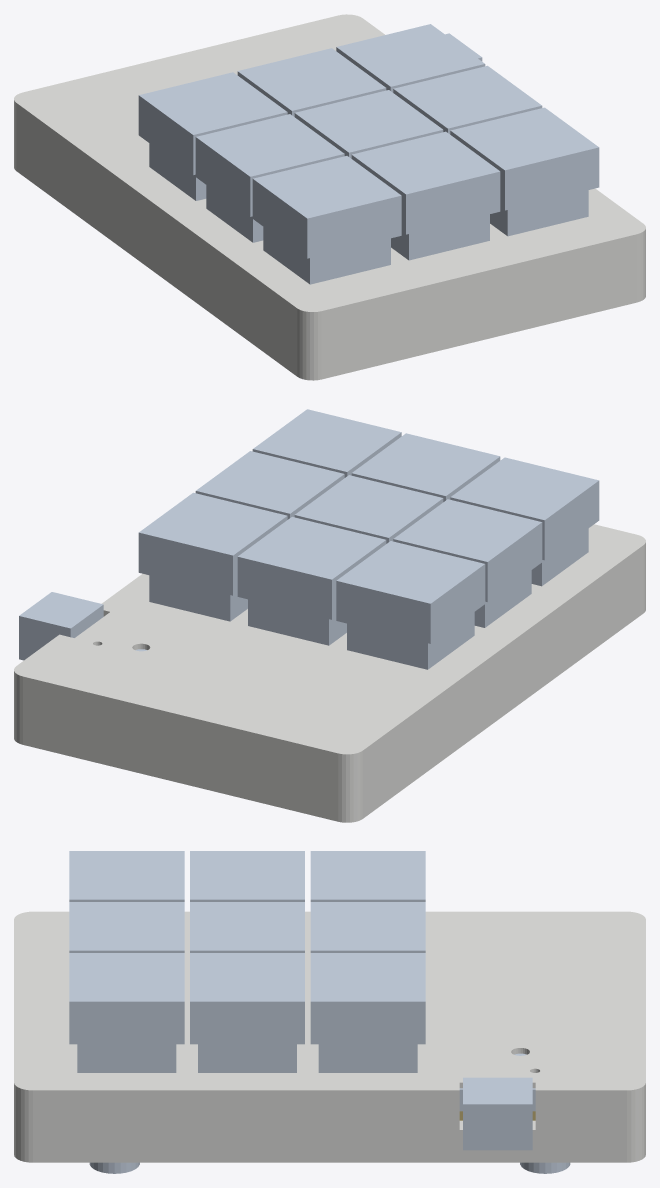
Rendered from system.glb.
3 renders of one model, top to bottom at view 1: azimuth 30°, elevation 25°; view 2: azimuth 150°, elevation 25°; view 3: azimuth 270°, elevation 25°, orthographic. The views are drawn at different scales.
Parts seen in each view (by area): view 1: top, bot, cap1, cap3, cap2, cap4, cap7, cap8, cap6, cap9, cap5, sw1 (+4 smaller); view 2: top, bot, cap7, cap9, cap8, cap4, cap1, cap3, cap6, cap2, cap5, cable (+5 smaller); view 3: top, bot, cap3, cap9, cap6, cap1, cap2, cap7, cap8, cap4, cap5, cable (+5 smaller).
Boxes of the visible parts, <box> form: top: <box>14,14,645,347</box>; bot: <box>14,136,645,380</box>; cap1: <box>252,156,401,258</box>; cap3: <box>450,107,599,210</box>; cap2: <box>351,131,500,234</box>; cap4: <box>195,114,344,216</box>; cap7: <box>138,72,287,175</box>; cap8: <box>237,48,386,116</box>; cap6: <box>393,65,542,134</box>; cap9: <box>336,24,485,92</box>; cap5: <box>294,90,443,158</box>; sw1: <box>263,227,390,284</box>; top: <box>14,524,645,790</box>; bot: <box>14,578,645,822</box>; cap7: <box>336,541,485,643</box>; cap9: <box>138,492,287,595</box>; cap8: <box>237,517,386,619</box>; cap4: <box>393,499,542,601</box>; cap1: <box>450,457,599,560</box>; cap3: <box>252,409,401,477</box>; cap6: <box>195,451,344,519</box>; cap2: <box>351,433,500,501</box>; cap5: <box>294,475,443,543</box>; cable: <box>19,592,103,660</box>; top: <box>14,911,645,1128</box>; bot: <box>14,1120,645,1162</box>; cap3: <box>69,953,184,1044</box>; cap9: <box>310,953,425,1044</box>; cap6: <box>190,953,304,1044</box>; cap1: <box>69,851,184,901</box>; cap2: <box>69,902,184,952</box>; cap7: <box>310,851,425,901</box>; cap8: <box>310,902,425,952</box>; cap4: <box>190,851,304,901</box>; cap5: <box>190,902,304,952</box>; cable: <box>463,1077,532,1150</box>.
Size of the model in its own units: 0.0749 by 0.0296 by 0.0998.
3 materials, 1 textured.
